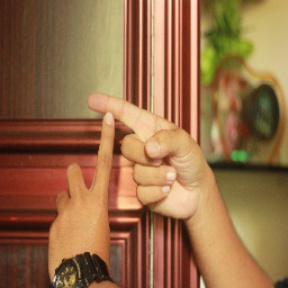T: (59, 83, 176, 223)
